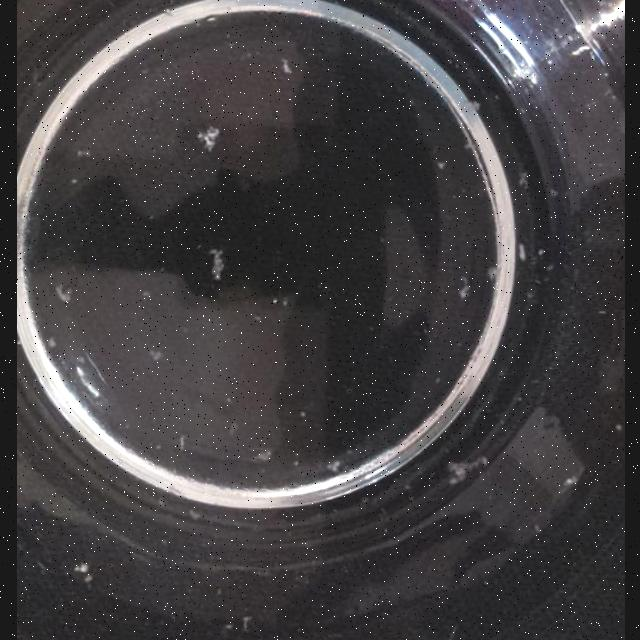Fibre: (446, 456, 484, 484), (196, 124, 220, 150), (206, 248, 224, 282), (250, 448, 272, 462), (458, 276, 470, 298), (326, 459, 342, 473), (468, 99, 480, 113), (518, 172, 528, 188), (487, 266, 497, 282), (518, 243, 526, 260), (564, 477, 576, 487)
microbeads: (54, 282, 70, 302), (147, 348, 161, 362), (280, 58, 292, 74), (242, 616, 252, 632), (74, 149, 90, 159), (188, 508, 200, 520), (228, 422, 238, 436), (75, 564, 88, 574), (46, 337, 56, 349), (176, 436, 184, 450), (435, 160, 445, 170), (140, 290, 150, 298), (252, 314, 262, 322), (222, 396, 232, 404), (532, 524, 540, 534), (548, 188, 556, 198), (223, 623, 233, 631), (157, 498, 165, 508), (204, 16, 216, 22), (68, 178, 78, 185), (434, 378, 442, 386), (153, 444, 161, 451), (299, 412, 307, 418)
